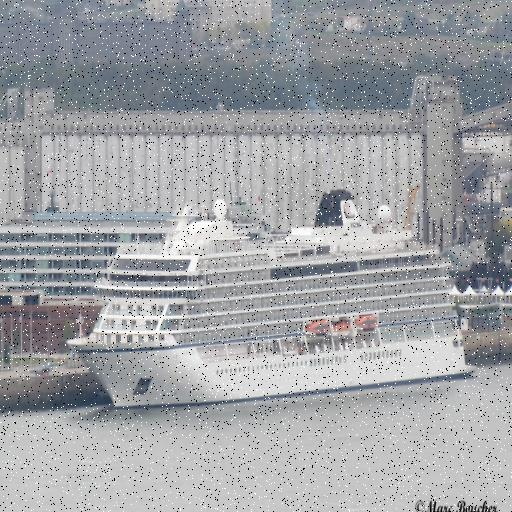cruises: (64, 182, 476, 414)
